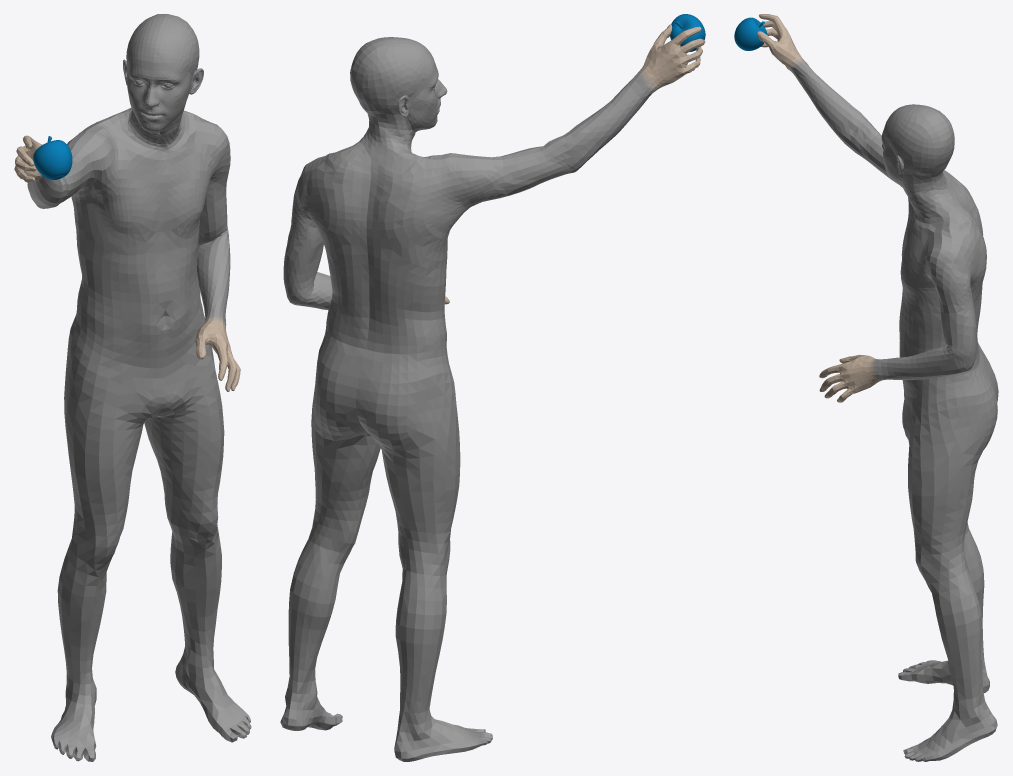
File: pass_apple_full.glb
The picture shows the model from 3 angles, left to right: view 1: azimuth 30°, elevation 25°; view 2: azimuth 150°, elevation 25°; view 3: azimuth 270°, elevation 25°; orthographic projection. The views are drawn at different scales.
Visible parts, largest first — view 1: pass_apple_full.obj; view 2: pass_apple_full.obj; view 3: pass_apple_full.obj.
Part boxes in pixels (<box>): pass_apple_full.obj: <box>14,14,251,761</box>; pass_apple_full.obj: <box>280,14,705,761</box>; pass_apple_full.obj: <box>734,14,998,761</box>.
Bounding box in the file's own units: 0.8391 × 1.81 × 0.6946.
